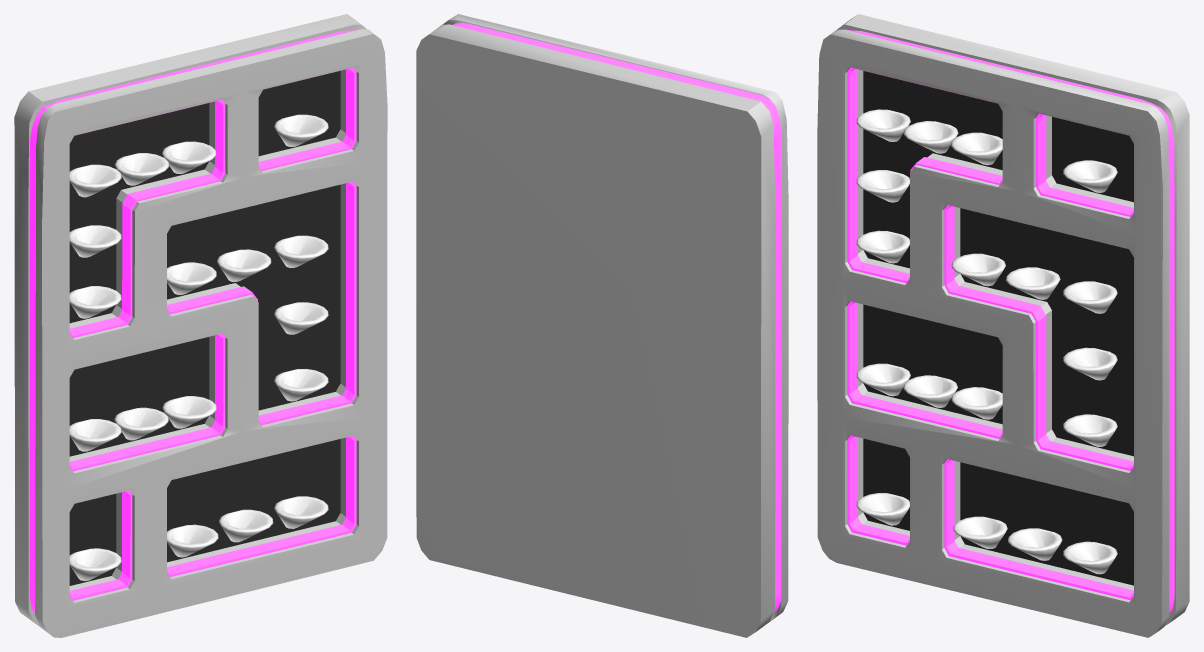
File: Estanteria.fbx
3 views of the same model, side by side, from view 1: azimuth 30°, elevation 25°; view 2: azimuth 150°, elevation 25°; view 3: azimuth 330°, elevation 25° (orthographic).
Visible parts, largest first — view 1: Cube.003, Cylinder.011, Cylinder.013, Cylinder.007, Cylinder.014, Cylinder.012, Cylinder.008, Cylinder.017, Cylinder.006, Cylinder.015, Cylinder.019, Cylinder.018 (+7 smaller); view 2: Cube.003; view 3: Cube.003, Cylinder.017, Cylinder.012, Cylinder.004, Cylinder.006, Cylinder.008, Cylinder.014, Cylinder.013, Cylinder.011, Cylinder.002, Cylinder.009, Cylinder.007 (+7 smaller).
Boxes of the visible parts, <box> form: Cube.003: <box>14,14,387,637</box>; Cylinder.011: <box>274,496,328,528</box>; Cylinder.013: <box>219,509,273,542</box>; Cylinder.007: <box>274,302,328,334</box>; Cylinder.014: <box>274,235,328,267</box>; Cylinder.012: <box>274,114,328,146</box>; Cylinder.008: <box>217,249,271,281</box>; Cylinder.017: <box>114,407,168,440</box>; Cylinder.006: <box>274,369,328,401</box>; Cylinder.015: <box>162,396,216,428</box>; Cylinder.019: <box>115,153,169,185</box>; Cylinder.018: <box>69,225,121,257</box>; Cube.003: <box>416,14,788,637</box>; Cube.003: <box>817,14,1189,637</box>; Cylinder.017: <box>903,375,957,407</box>; Cylinder.012: <box>1063,160,1117,192</box>; Cylinder.004: <box>951,253,1005,286</box>; Cylinder.006: <box>1063,414,1117,446</box>; Cylinder.008: <box>1006,267,1060,299</box>; Cylinder.014: <box>1063,281,1117,313</box>; Cylinder.013: <box>1008,528,1062,560</box>; Cylinder.011: <box>1063,541,1117,574</box>; Cylinder.002: <box>856,109,910,141</box>; Cylinder.009: <box>856,493,909,525</box>; Cylinder.007: <box>1063,347,1117,380</box>.
Bounding box in the file's own units: 705 × 1029 × 121.
